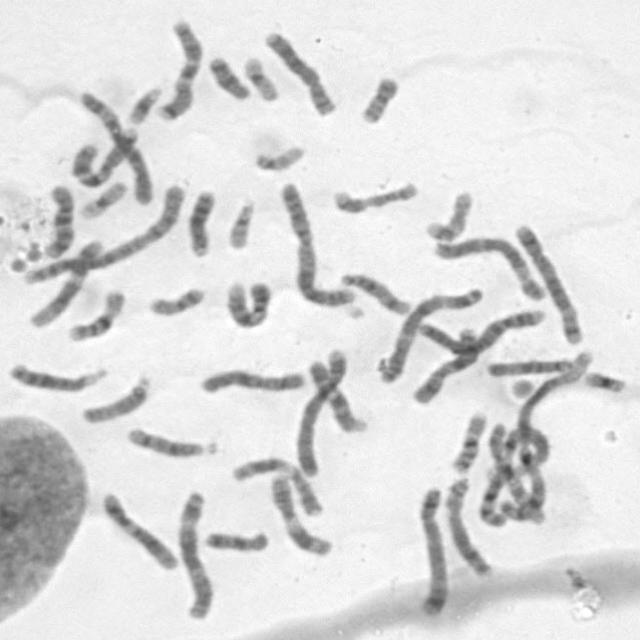A1: (480, 347, 599, 528), (477, 426, 562, 525)
A2: (20, 178, 191, 286), (276, 179, 358, 310)
A3: (371, 280, 486, 385), (172, 485, 218, 620)
B4: (289, 342, 351, 479), (412, 302, 547, 357)
B5: (508, 216, 586, 346), (414, 482, 452, 617)
C10: (486, 419, 552, 527), (39, 180, 77, 260)
C11: (226, 451, 326, 518), (267, 469, 337, 558)
C12: (22, 233, 105, 329), (96, 486, 181, 571)
C6: (75, 85, 158, 206), (430, 232, 549, 303)
C7: (150, 14, 204, 123), (67, 123, 142, 189)
C8: (259, 26, 339, 117), (440, 474, 496, 580)
C9: (302, 354, 371, 434), (221, 275, 273, 330)
D13: (4, 357, 108, 394), (183, 184, 220, 258)
D14: (336, 266, 414, 316), (121, 422, 215, 459)
D15: (76, 370, 154, 425), (483, 350, 583, 378)
E16: (64, 284, 130, 344), (446, 407, 489, 475)
E17: (328, 177, 421, 216), (421, 185, 476, 242)
E18: (204, 50, 252, 101), (200, 524, 272, 555)
F19: (74, 176, 130, 221), (238, 52, 282, 102)
F20: (354, 70, 402, 126), (143, 281, 210, 318)
G21: (122, 81, 164, 127), (578, 365, 629, 394)
G22: (224, 195, 259, 251), (249, 140, 308, 173)
X: (408, 321, 482, 405), (196, 363, 310, 396)
